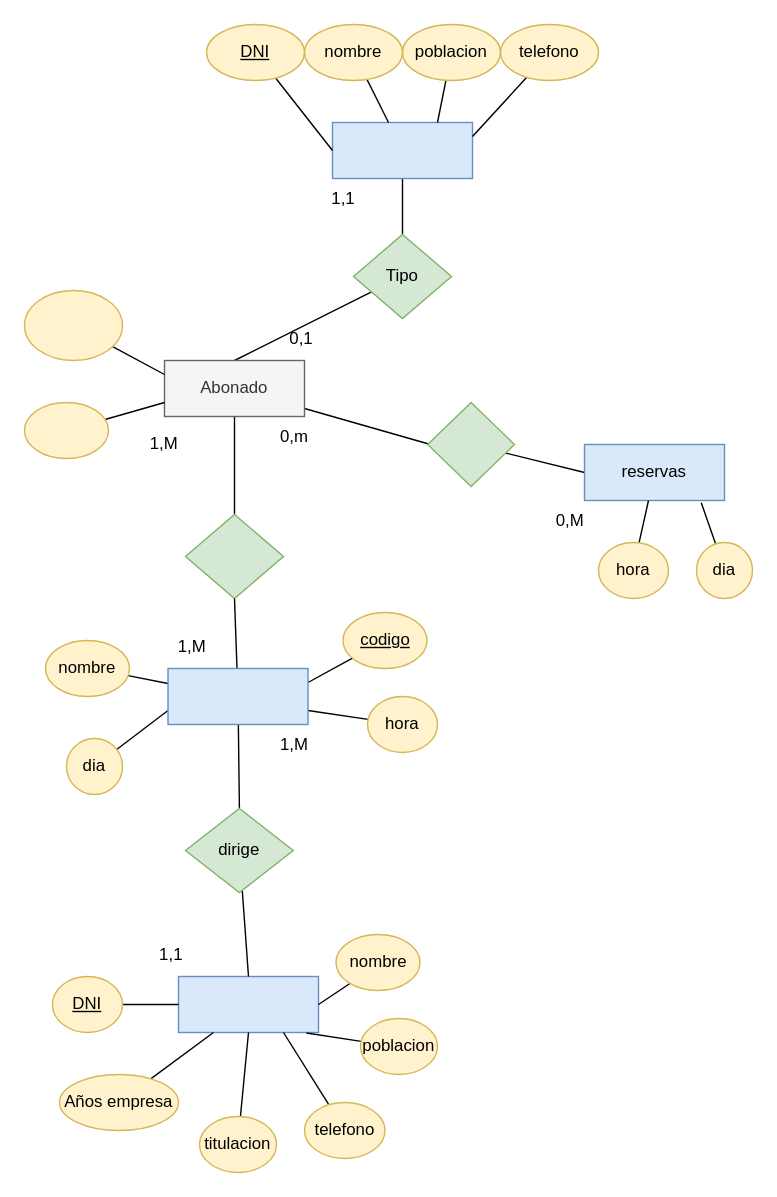
This 777x1197 diagram has some shape labels left out. The shapes that lost their labels are listed below. From the top down, each one's box as (x1, y1, x2, y2) in pixels, then its label:
(331, 121, 472, 178): Cliente
(23, 289, 122, 360): Datos bancarios
(23, 401, 108, 458): Cuota
(426, 401, 514, 486): pueden
(184, 513, 284, 598): Premiun
(167, 667, 308, 724): Actividades
(177, 975, 318, 1032): Monitor
